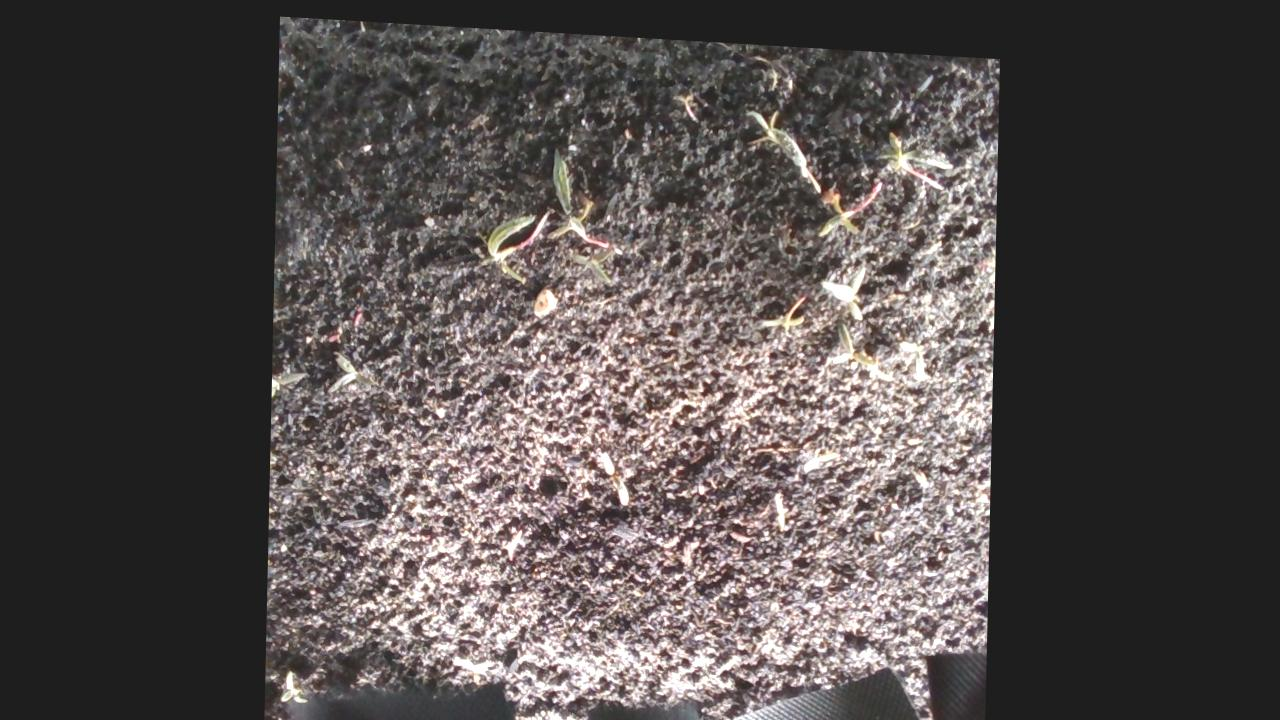weed: (755, 271, 811, 335)
